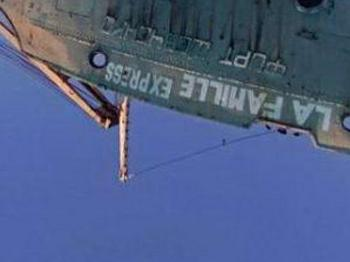rust: (118, 4, 284, 33)
